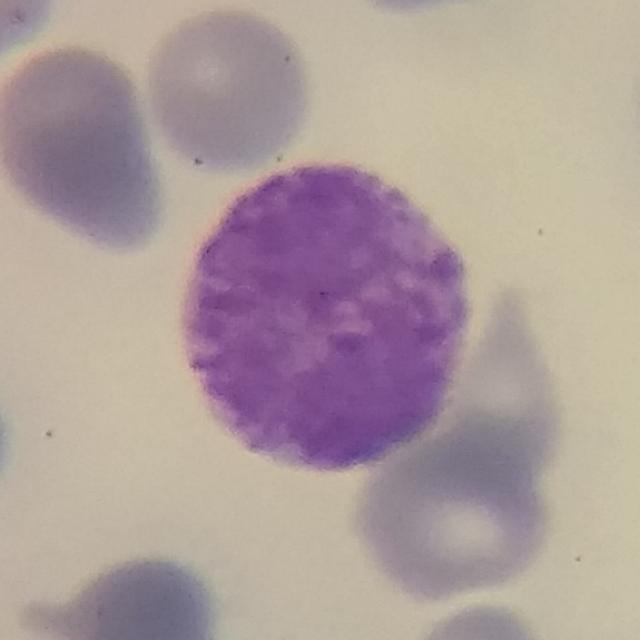Neutrophil: (159, 139, 491, 497)
Platelets: (0, 358, 19, 520)
RBC: (347, 418, 558, 606), (0, 33, 174, 256), (137, 0, 318, 177), (30, 546, 229, 640), (399, 596, 557, 640), (0, 0, 68, 71), (332, 0, 515, 19), (0, 364, 18, 528)
